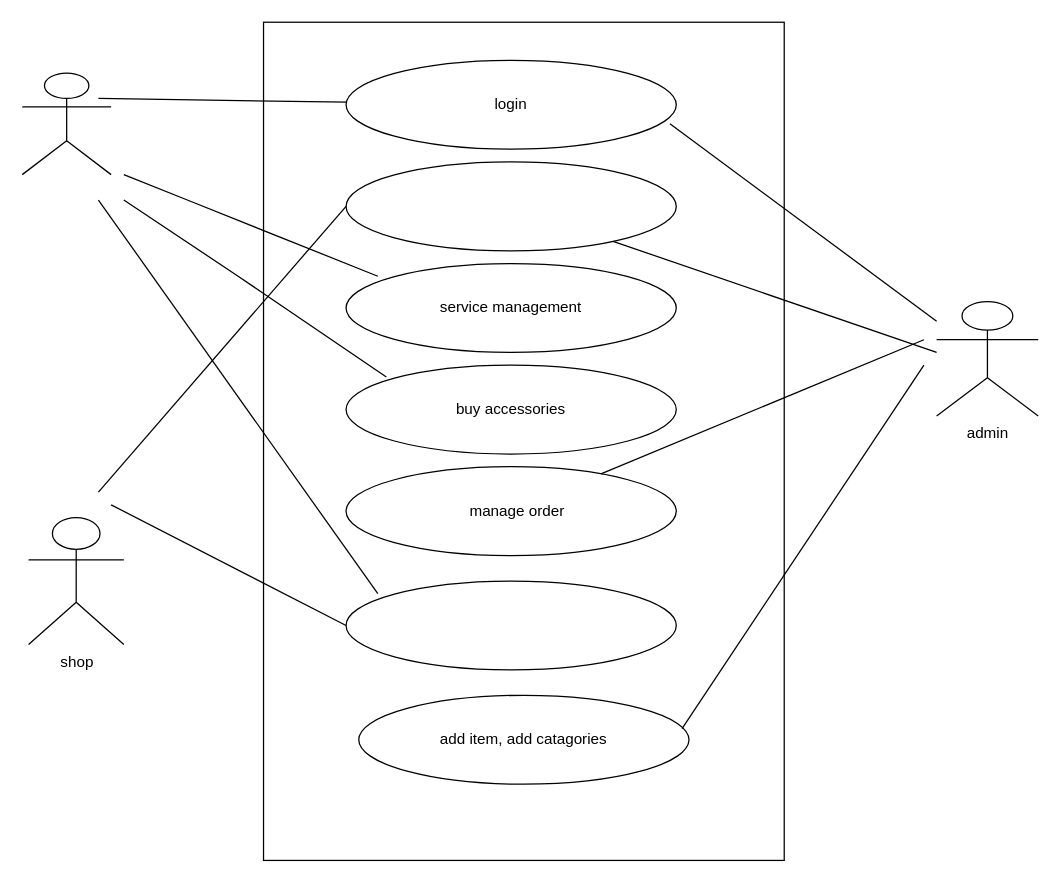
The diagram is 1060 pixels wide and 883 high, and some of its shapes have lost their labels. Each missing label, with the centre of its shape:
accessories management: (510,206)
booking services: (510,625)
customer: (66,123)
